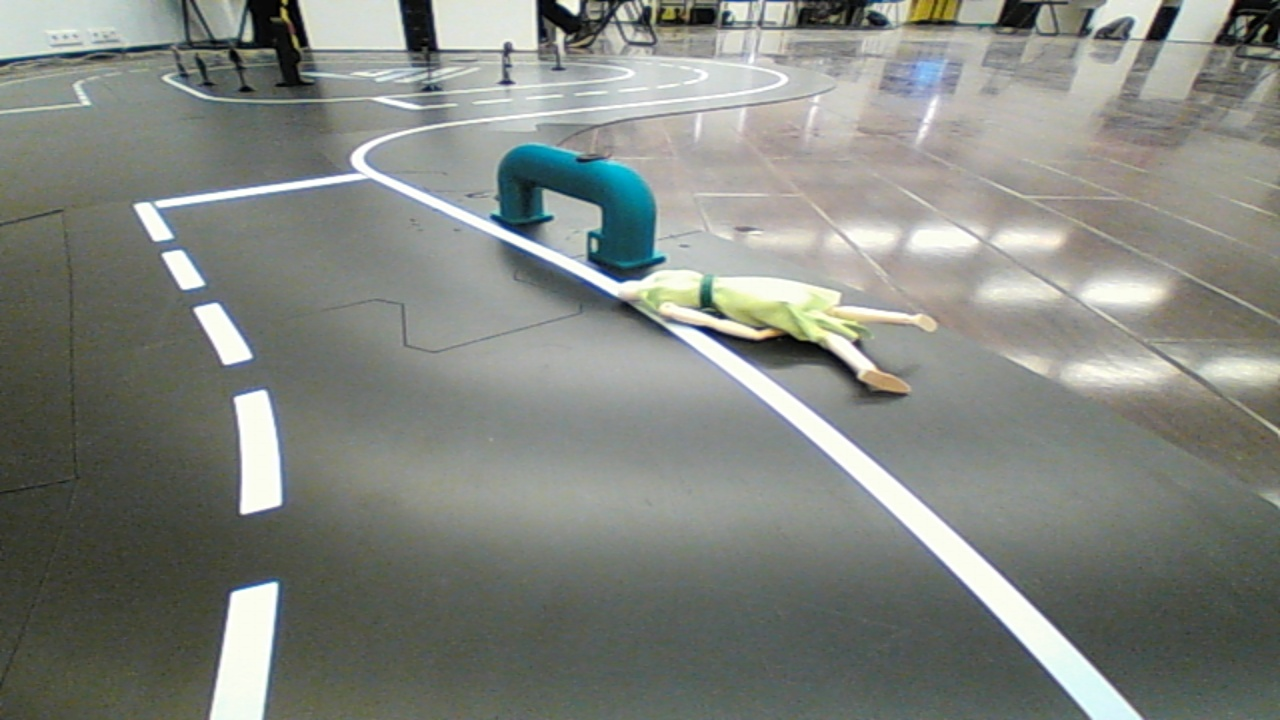Pedestrian crossing: (486, 130, 668, 274)
Road works: (604, 257, 960, 407)
